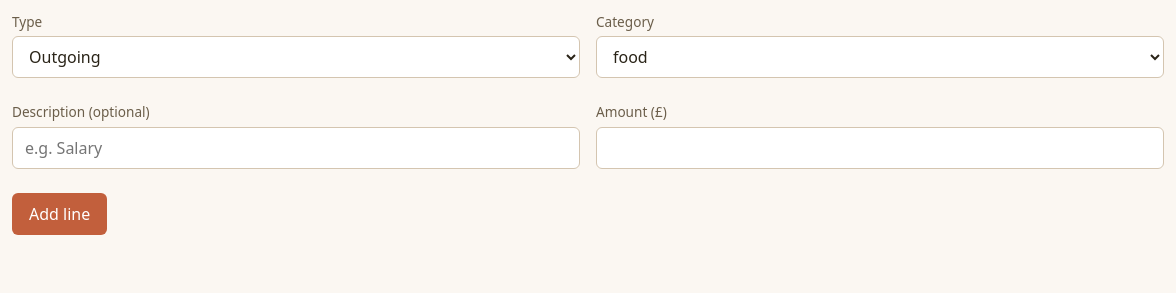
Test: LineItemForm — inline validation › blocks submit and surfaces an inline error when the amount is missing
Don't type an amount.
Click the button "Add line" at (60, 214), box x1=12 y1=193 x2=107 y2=235
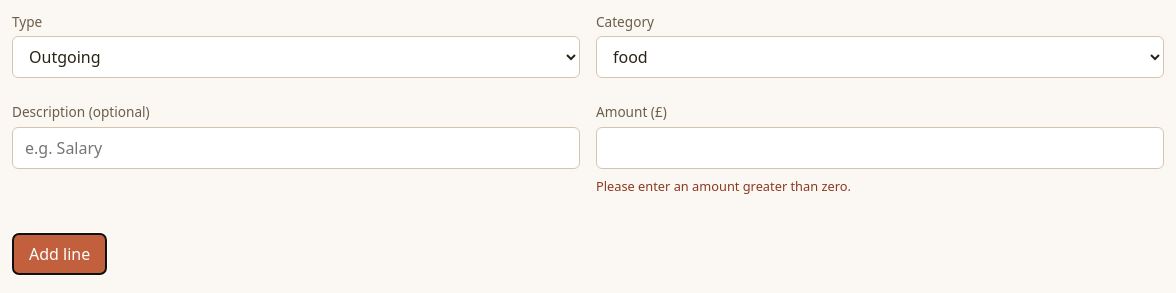
Check: the text "Please enter an amount greater than zero." is shown, box x1=596 y1=177 x2=851 y2=195
